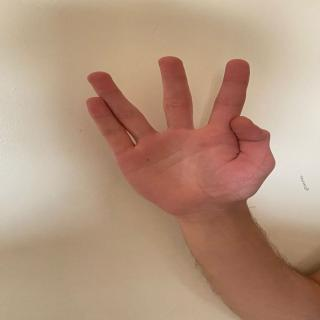SHEEN: (69, 50, 288, 208)
